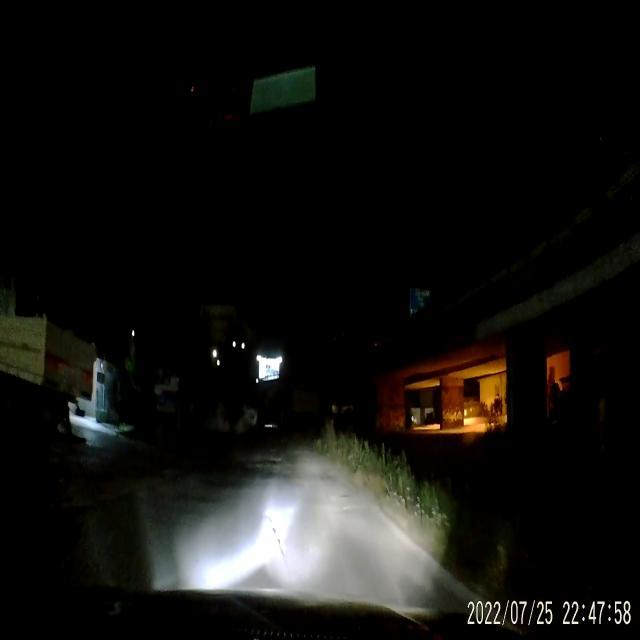Pothole: (266, 511, 286, 568)
